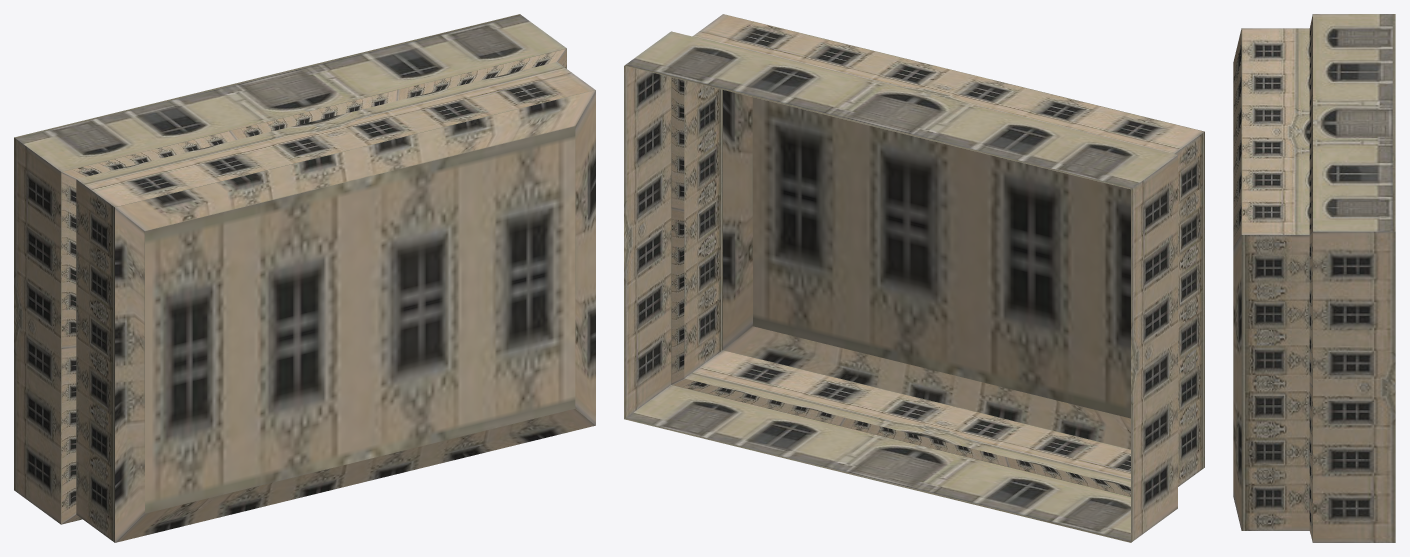
The model's file is urbanbank01a_wtf.obj.
3 views of the same model, side by side, from view 1: azimuth 30°, elevation 25°; view 2: azimuth 150°, elevation 25°; view 3: azimuth 270°, elevation 25° (orthographic). The views are drawn at different scales.
Visible parts, largest first — view 1: group2; view 2: group2; view 3: group2.
Part boxes in pixels (x1,y1,x2,y2): group2: (14,14,595,542); group2: (624,14,1204,542); group2: (1233,14,1395,542).
Bounding box in the file's own units: 660 × 440 × 208.
